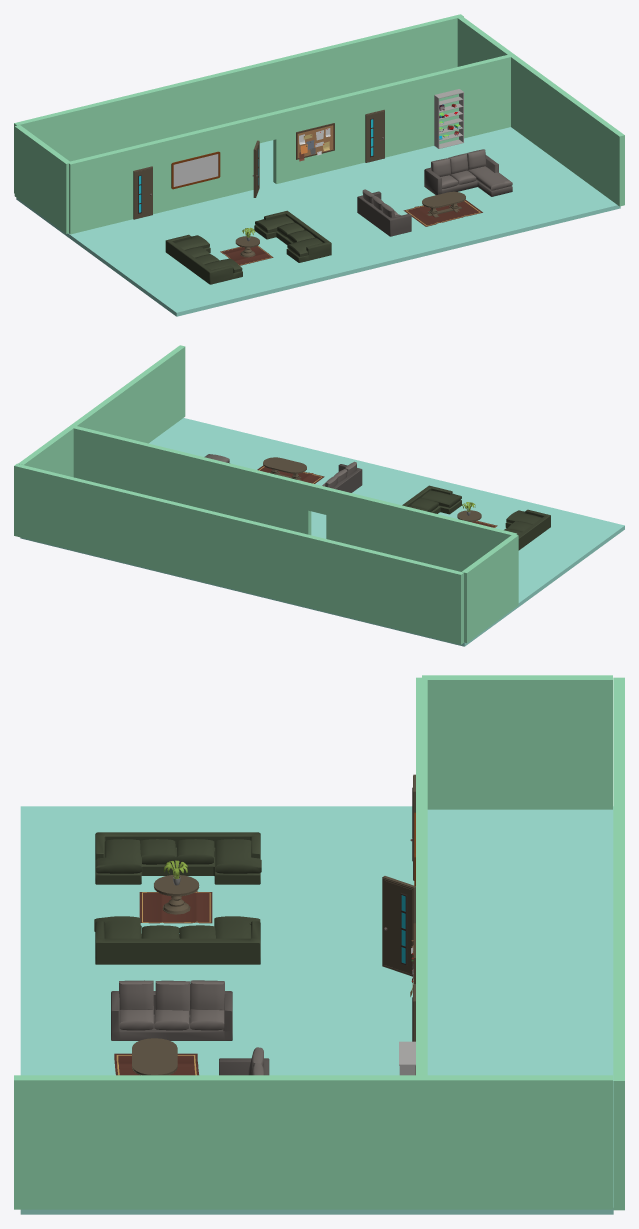
File: dept.fbx
3 renders of one model, top to bottom at view 1: azimuth 30°, elevation 25°; view 2: azimuth 150°, elevation 25°; view 3: azimuth 270°, elevation 25°, orthographic. The views are drawn at different scales.
Parts seen in each view (by area): view 1: Cube.004, Wall.022, Wall.015, Wall.017, Wall.021, Wall.016, Couch_L, Couch_Large3, Couch_Large3.001, Couch_Large2, SM_Blackboard_01.001, Bookshelf (+7 smaller); view 2: Wall.022, Cube.004, Wall.015, Wall.017, Wall.021, Wall.016, Couch_Large3.001, Couch_Large3, Couch_Large2, Table_RoundLarge, Wall.019; view 3: Cube.004, Wall.021, Wall.016, Couch_Large3.001, Couch_Large3, Couch_Large2, Wall.022, Door_6.001, Wall.015, Wall.017, Carpet_2.001, Table_RoundLarge (+3 smaller).
Part boxes in pixels (left/top/right/bottom): Cube.004: left=16, top=127, right=620, bottom=316; Wall.022: left=14, top=14, right=463, bottom=193; Wall.015: left=273, top=53, right=515, bottom=183; Wall.017: left=69, top=116, right=258, bottom=234; Wall.021: left=457, top=17, right=624, bottom=206; Wall.016: left=14, top=125, right=71, bottom=233; Couch_L: left=424, top=149, right=512, bottom=196; Couch_Large3: left=254, top=210, right=331, bottom=262; Couch_Large3.001: left=165, top=234, right=242, bottom=284; Couch_Large2: left=357, top=189, right=411, bottom=236; SM_Blackboard_01.001: left=171, top=151, right=220, bottom=189; Bookshelf: left=434, top=89, right=464, bottom=148; Wall.022: left=14, top=463, right=463, bottom=644; Cube.004: left=20, top=418, right=624, bottom=646; Wall.015: left=71, top=425, right=311, bottom=535; Wall.017: left=326, top=488, right=517, bottom=571; Wall.021: left=18, top=345, right=185, bottom=477; Wall.016: left=462, top=534, right=518, bottom=642; Couch_Large3.001: left=504, top=509, right=550, bottom=550; Couch_Large3: left=402, top=485, right=461, bottom=514; Couch_Large2: left=322, top=461, right=362, bottom=492; Table_RoundLarge: left=263, top=457, right=306, bottom=480; Wall.019: left=308, top=483, right=329, bottom=514; Cube.004: left=20, top=806, right=613, bottom=1214; Wall.021: left=14, top=1075, right=612, bottom=1209; Wall.016: left=422, top=675, right=612, bottom=809; Couch_Large3.001: left=95, top=832, right=261, bottom=884; Couch_Large3: left=94, top=916, right=260, bottom=964; Couch_Large2: left=111, top=980, right=232, bottom=1040; Wall.022: left=613, top=677, right=624, bottom=1210; Door_6.001: left=382, top=876, right=415, bottom=976; Wall.015: left=416, top=863, right=427, bottom=1079; Wall.017: left=416, top=677, right=427, bottom=846; Carpet_2.001: left=139, top=891, right=212, bottom=923; Table_RoundLarge: left=132, top=1038, right=177, bottom=1075.
Size of the model in its own units: 4093 by 643 by 2604.
